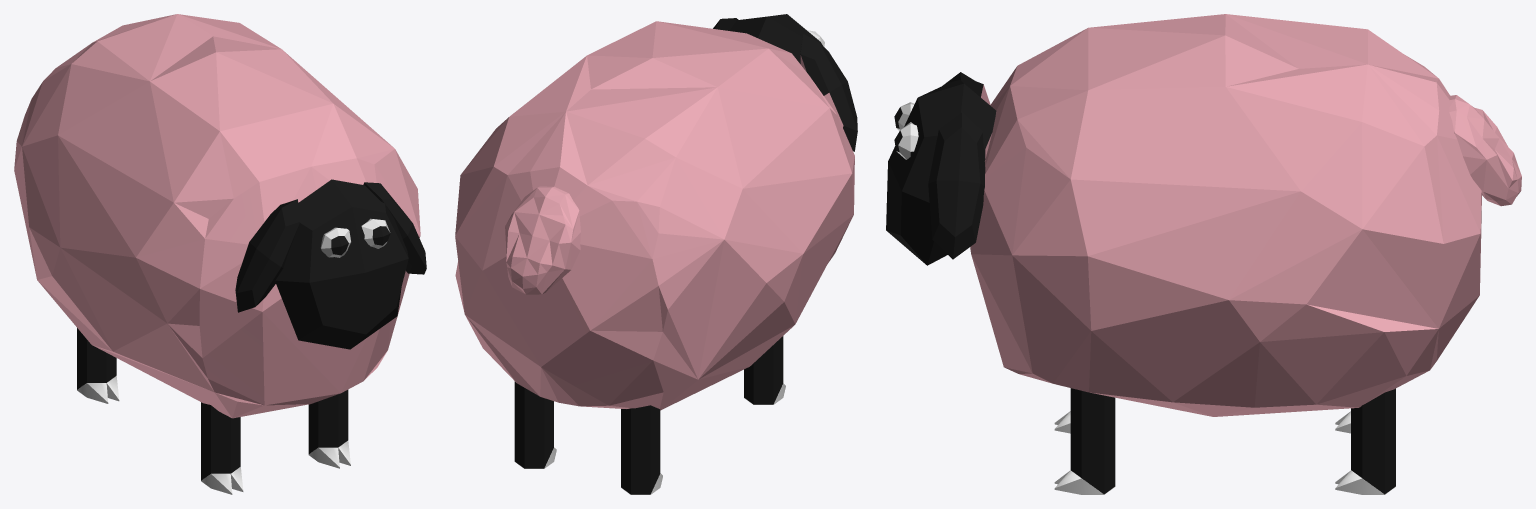
Rendered from sheep-pink.fbx.
3 views of the same model, side by side, from view 1: azimuth 30°, elevation 25°; view 2: azimuth 150°, elevation 25°; view 3: azimuth 270°, elevation 25° (orthographic). The views are drawn at different scales.
Visible parts, largest first — view 1: pCylinder12; view 2: pCylinder12; view 3: pCylinder12.
Part boxes in pixels (x1=…): pCylinder12: x1=14, y1=14, x2=426, y2=494; pCylinder12: x1=455, y1=14, x2=857, y2=494; pCylinder12: x1=886, y1=14, x2=1521, y2=494.
Size of the model in its own units: 86.05 by 99.49 by 136.
